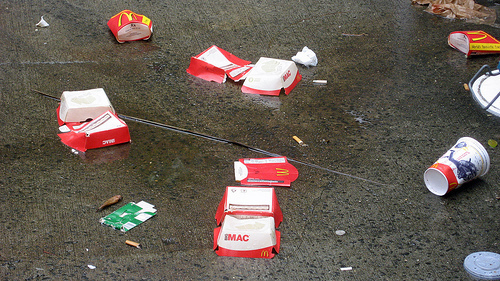litter: (187, 45, 300, 95), (212, 185, 280, 258), (55, 88, 131, 150), (425, 136, 489, 196), (232, 154, 296, 187), (101, 199, 154, 229), (106, 10, 152, 44), (445, 29, 500, 56), (463, 250, 500, 272), (295, 44, 318, 67), (124, 237, 140, 248), (291, 133, 303, 146), (35, 16, 50, 26), (312, 77, 328, 84)
